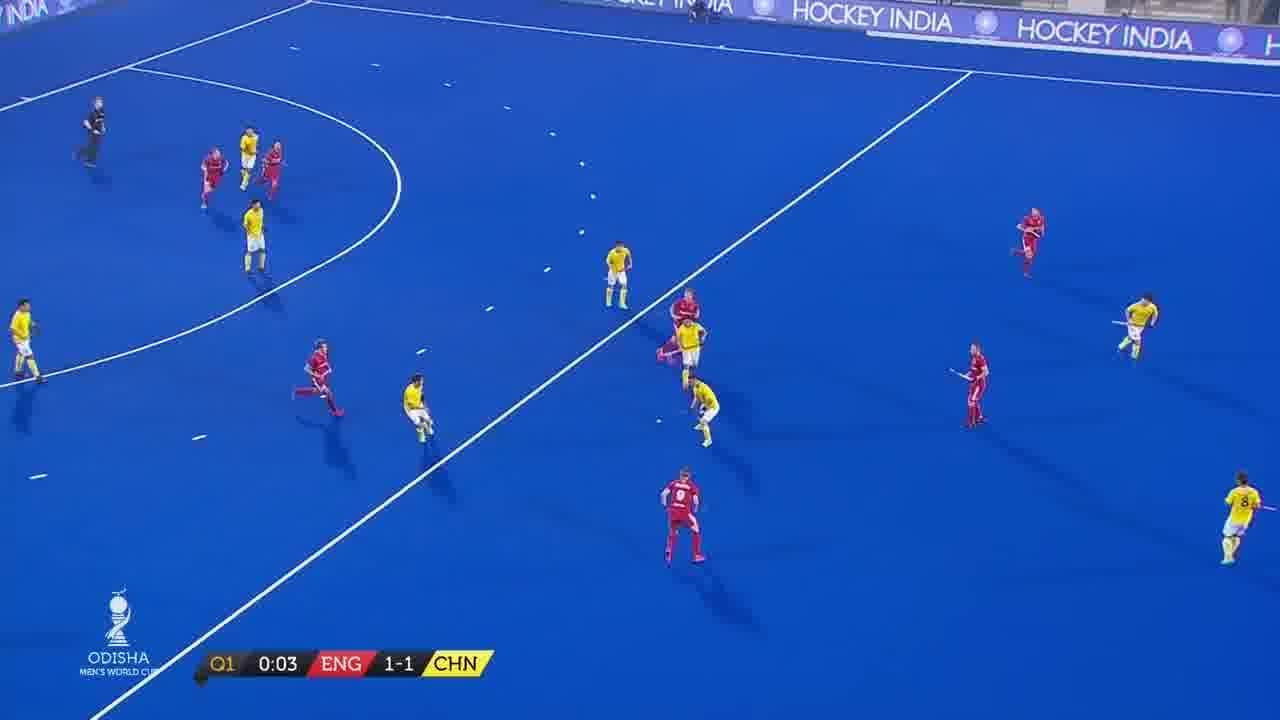ball: (652, 407, 671, 434)
